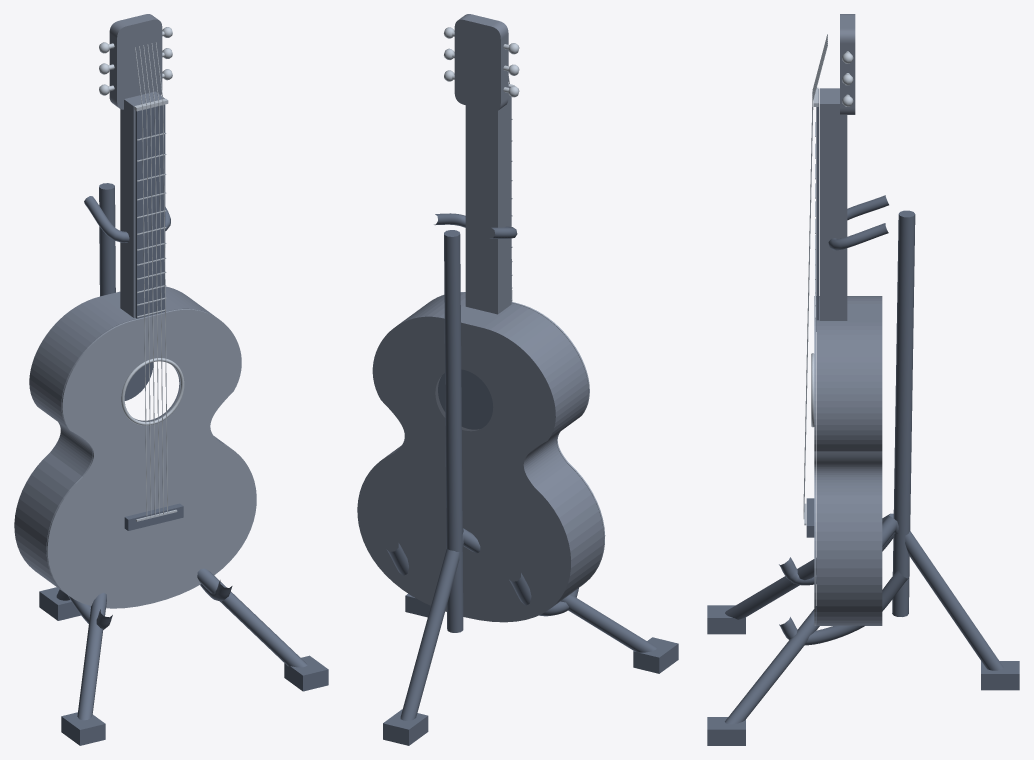
Rendered from guitar-stand-lite.glb.
3 renders of one model, left to right at view 1: azimuth 30°, elevation 25°; view 2: azimuth 150°, elevation 25°; view 3: azimuth 270°, elevation 25°, orthographic. The views are drawn at different scales.
Parts seen in each view (by area): view 1: guitar-stand-accent, guitar-stand-frame, guitar-stand-dark, guitar-stand-light; view 2: guitar-stand-frame, guitar-stand-dark, guitar-stand-light, guitar-stand-accent; view 3: guitar-stand-frame, guitar-stand-dark, guitar-stand-light, guitar-stand-accent.
Boxes of the visible parts, bbox=[...] form: guitar-stand-accent: bbox=[46, 309, 256, 608]; guitar-stand-frame: bbox=[14, 14, 229, 593]; guitar-stand-dark: bbox=[39, 104, 328, 745]; guitar-stand-light: bbox=[99, 27, 184, 521]; guitar-stand-frame: bbox=[357, 14, 603, 622]; guitar-stand-dark: bbox=[383, 87, 678, 745]; guitar-stand-light: bbox=[444, 27, 519, 301]; guitar-stand-accent: bbox=[433, 292, 605, 583]; guitar-stand-frame: bbox=[816, 14, 882, 625]; guitar-stand-dark: bbox=[707, 89, 1019, 745]; guitar-stand-light: bbox=[803, 34, 853, 525]; guitar-stand-accent: bbox=[814, 296, 816, 625].
Size of the model in its own units: 0.457 by 1.13 by 0.485.
